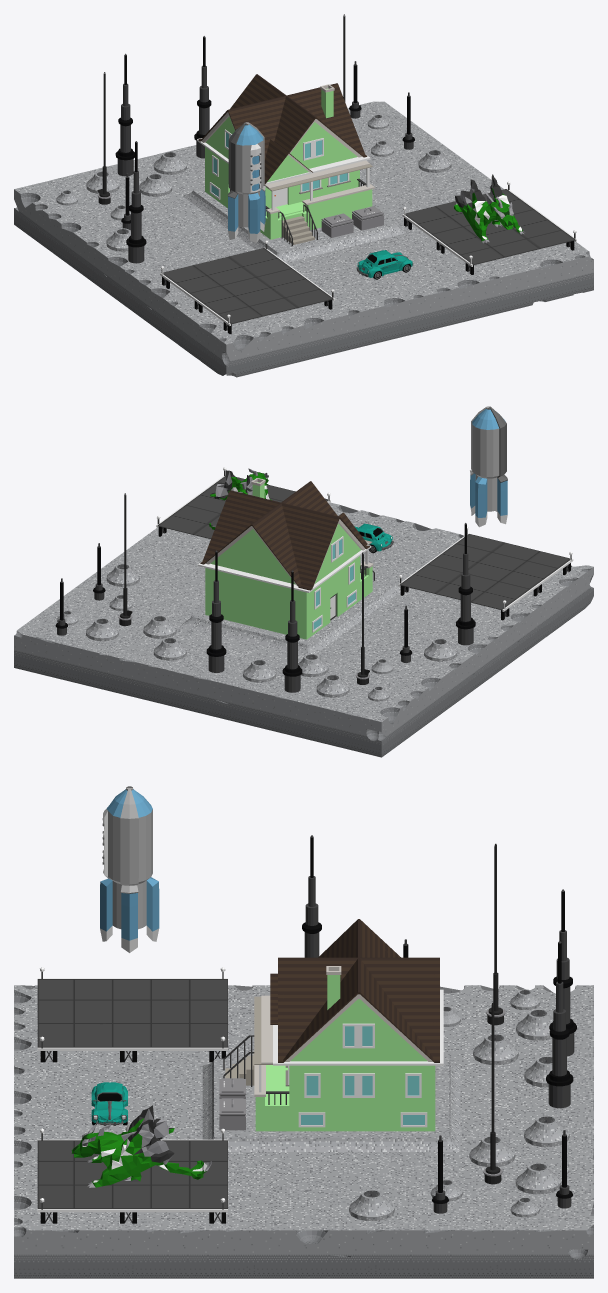
3 renders of one model, top to bottom at view 1: azimuth 30°, elevation 25°; view 2: azimuth 150°, elevation 25°; view 3: azimuth 270°, elevation 25°, orthographic. The views are drawn at different scales.
Parts seen in each view (by area): view 1: Cube.027, Cube.274, Cube.025, Cube.026, OBJRANDOM_ROCKETSHIP, Cube.028, ANIMAL_DRAGON, Cylinder.021, Cylinder.020, VEHICLES_VOLKSWAGEN, Cylinder.017, Cube.029 (+6 smaller); view 2: Cube.027, Cube.274, Cube.025, OBJRANDOM_ROCKETSHIP, Cube.028, Cube.026, Cylinder.020, Cylinder.017, Cylinder.021, ANIMAL_DRAGON, VEHICLES_VOLKSWAGEN, Cylinder.028 (+9 smaller); view 3: Cube.027, Cube.274, Cube.025, Cube.026, Cube.028, OBJRANDOM_ROCKETSHIP, ANIMAL_DRAGON, Cylinder.017, VEHICLES_VOLKSWAGEN, Cylinder.020, Cylinder.021, Cylinder.031 (+9 smaller).
Part boxes in pixels (bbox=[...]): Cube.027: bbox=[14, 101, 593, 377]; Cube.274: bbox=[197, 74, 374, 245]; Cube.025: bbox=[160, 240, 334, 333]; Cube.026: bbox=[402, 181, 576, 274]; OBJRANDOM_ROCKETSHIP: bbox=[227, 122, 265, 242]; Cube.028: bbox=[183, 187, 405, 262]; ANIMAL_DRAGON: bbox=[454, 174, 525, 243]; Cylinder.021: bbox=[126, 141, 146, 263]; Cylinder.020: bbox=[115, 53, 134, 176]; VEHICLES_VOLKSWAGEN: bbox=[356, 250, 412, 279]; Cylinder.017: bbox=[194, 36, 211, 158]; Cube.029: bbox=[321, 213, 353, 237]; Cube.027: bbox=[14, 502, 593, 757]; Cube.274: bbox=[198, 478, 374, 639]; Cube.025: bbox=[398, 526, 573, 620]; OBJRANDOM_ROCKETSHIP: bbox=[470, 406, 507, 527]; Cube.028: bbox=[182, 577, 400, 655]; Cube.026: bbox=[156, 467, 330, 538]; Cylinder.020: bbox=[282, 570, 302, 692]; Cylinder.017: bbox=[206, 550, 226, 672]; Cylinder.021: bbox=[456, 523, 475, 645]; ANIMAL_DRAGON: bbox=[209, 468, 271, 529]; VEHICLES_VOLKSWAGEN: bbox=[354, 523, 393, 553]; Cylinder.028: bbox=[316, 674, 349, 697]; Cube.027: bbox=[14, 985, 593, 1278]; Cube.274: bbox=[223, 919, 443, 1131]; Cube.025: bbox=[37, 967, 227, 1062]; Cube.026: bbox=[37, 1128, 227, 1223]; Cube.028: bbox=[202, 1058, 460, 1151]; OBJRANDOM_ROCKETSHIP: bbox=[100, 786, 159, 952]; ANIMAL_DRAGON: bbox=[71, 1105, 211, 1187]; Cylinder.017: bbox=[546, 941, 573, 1108]; VEHICLES_VOLKSWAGEN: bbox=[91, 1082, 127, 1125]; Cylinder.020: bbox=[549, 889, 576, 1056]; Cylinder.021: bbox=[302, 835, 321, 957]; Cylinder.031: bbox=[515, 1162, 561, 1194].
Size of the model in its own units: 4000 by 2290 by 4000.
38 materials, 5 textured.
